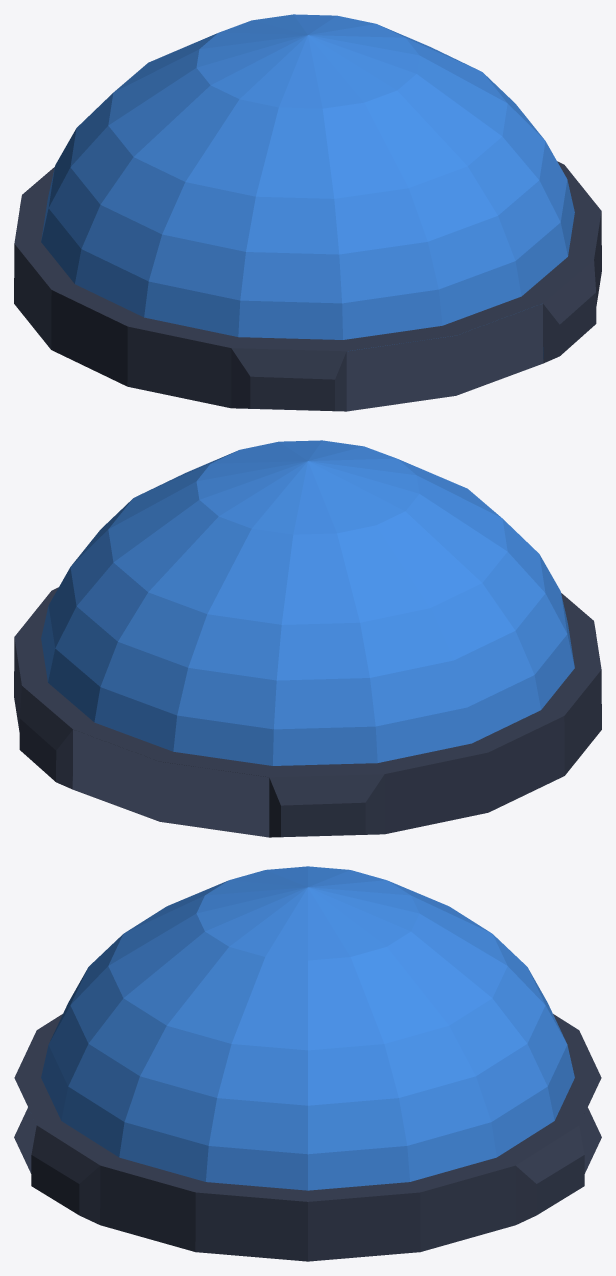
The model's file is TheDoom.fbx.
The picture shows the model from 3 angles, top to bottom: view 1: azimuth 30°, elevation 25°; view 2: azimuth 150°, elevation 25°; view 3: azimuth 270°, elevation 25°; orthographic projection.
Parts seen in each view (by area): view 1: Sphere; view 2: Sphere; view 3: Sphere.
Boxes of the visible parts, left/top/right/bottom form: Sphere: left=14, top=14, right=601, bottom=411; Sphere: left=14, top=440, right=601, bottom=837; Sphere: left=14, top=866, right=601, bottom=1261.
Size of the model in its own units: 3521 by 3520 by 1652.
